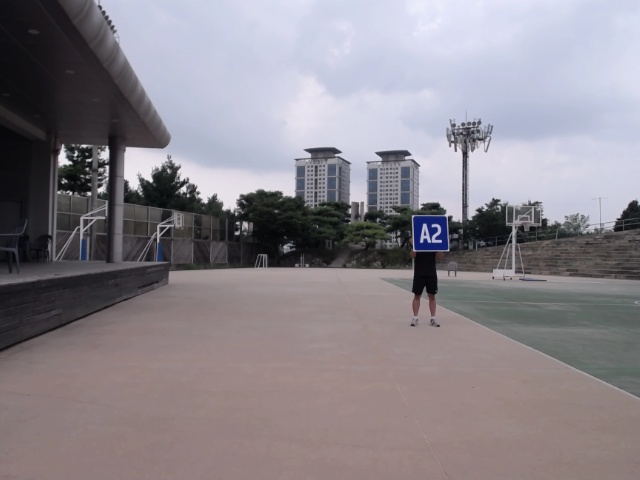delivery_a2: (413, 216, 449, 251)
